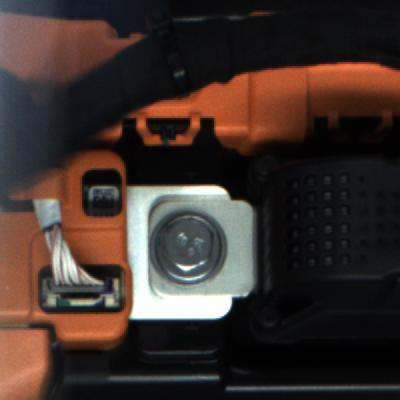nut_b: (148, 207, 231, 287)
